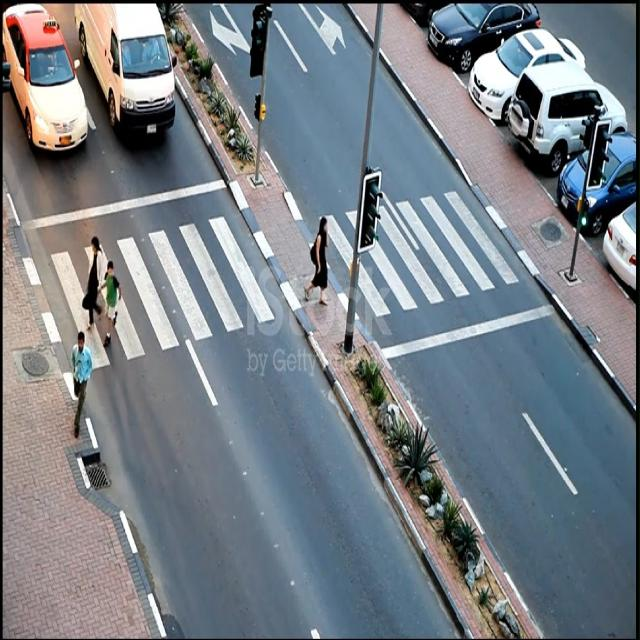pedestrian: (71, 331, 92, 436), (82, 239, 106, 328), (101, 261, 121, 326), (105, 331, 110, 345)
